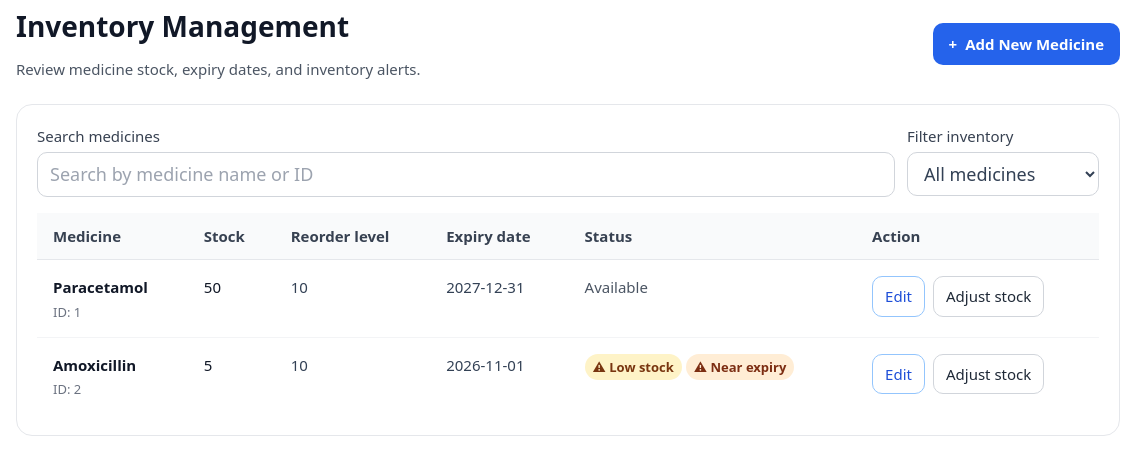
Test: InventoryManagementPage › searches medicines by name
Expected: the text "Paracetamol" is shown, [53,277,148,297]
Type "Para" into the search field labelled "Search medicines" at coordinates (466, 174), box [37,152,895,197]
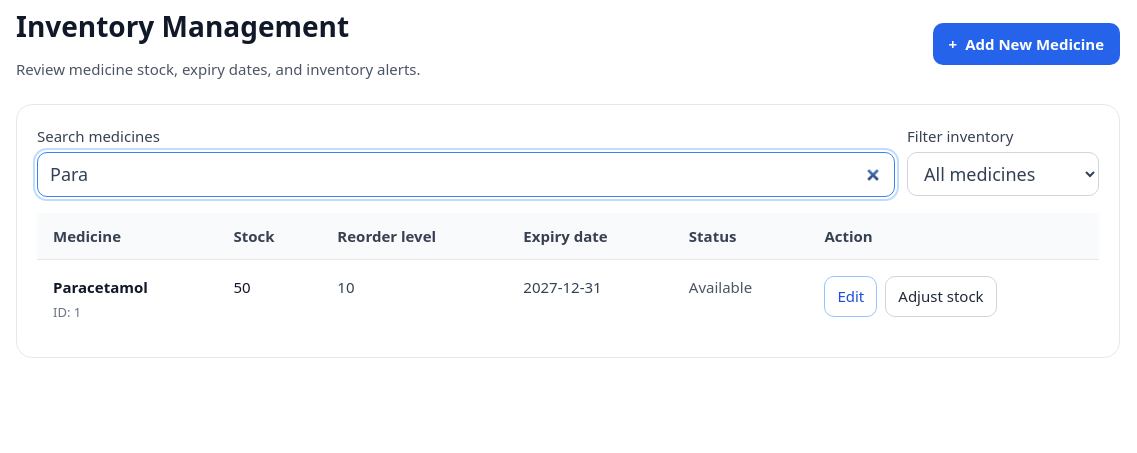
Expected: the text "Paracetamol" is shown, [53,277,148,297]
Result: the text "Amoxicillin" is gone
